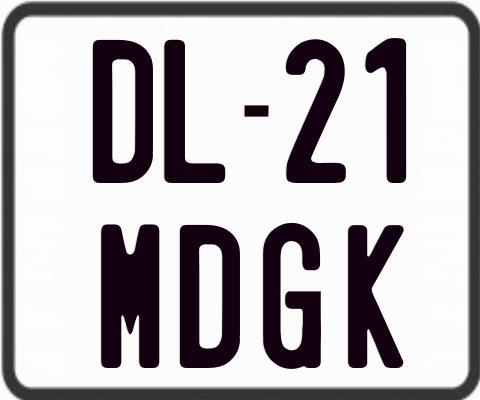1: (365, 36, 408, 187)
2: (283, 38, 348, 184)
D: (179, 225, 245, 372), (91, 38, 151, 185)
G: (260, 223, 324, 369)
K: (347, 224, 408, 371)
L: (162, 37, 229, 182)
M: (98, 223, 159, 371)
